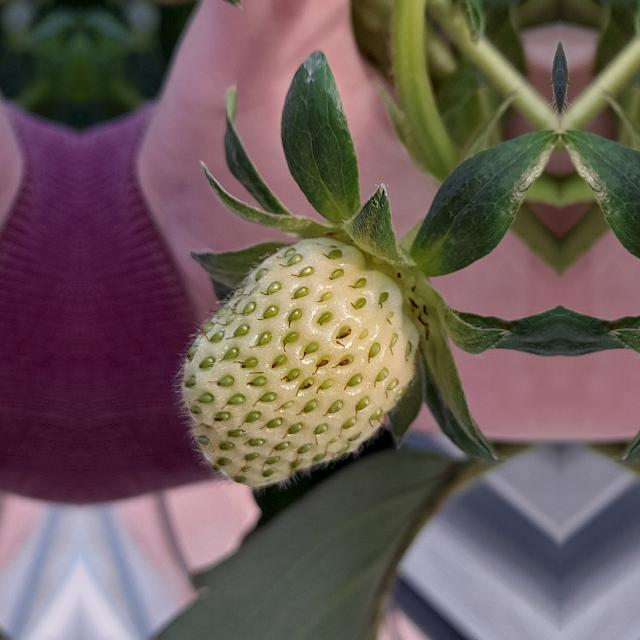Health_25: (169, 236, 423, 497)
